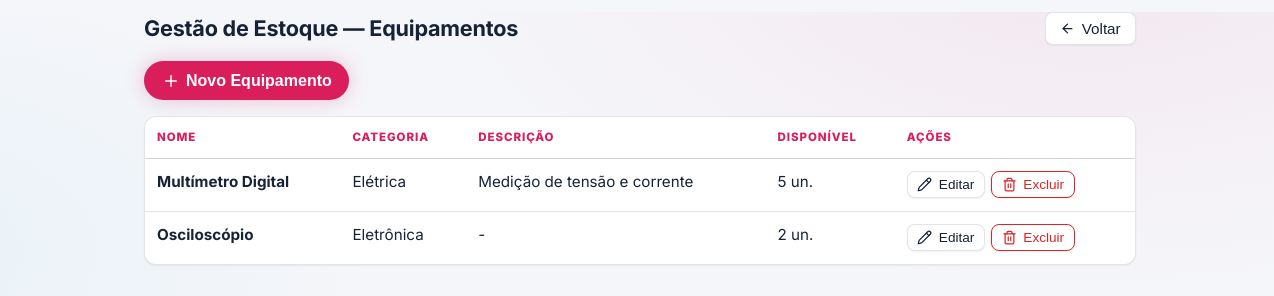
Test: Gestão de Estoque — Equipamentos › exclui um equipamento após confirmação
Click the button "Excluir" in the row of "Multímetro Digital" at (1033, 185), box [991,171,1075,198]
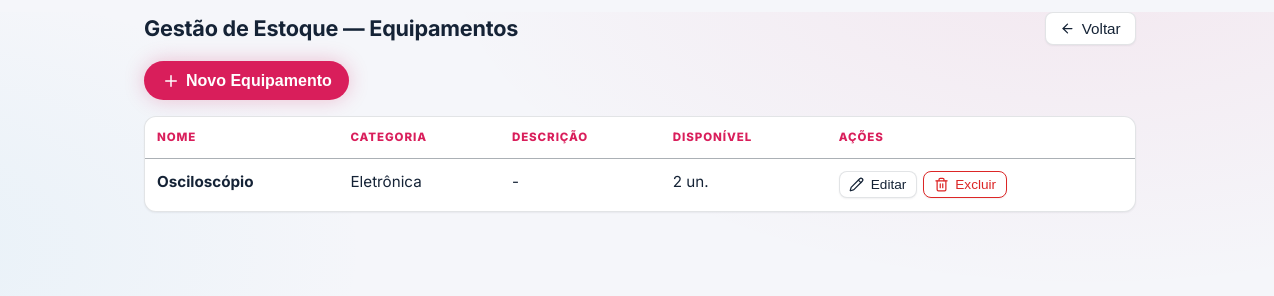
Check: the text "Osciloscópio" is shown, box [157,172,254,191]
Check: the text "Multímetro Digital" is gone
